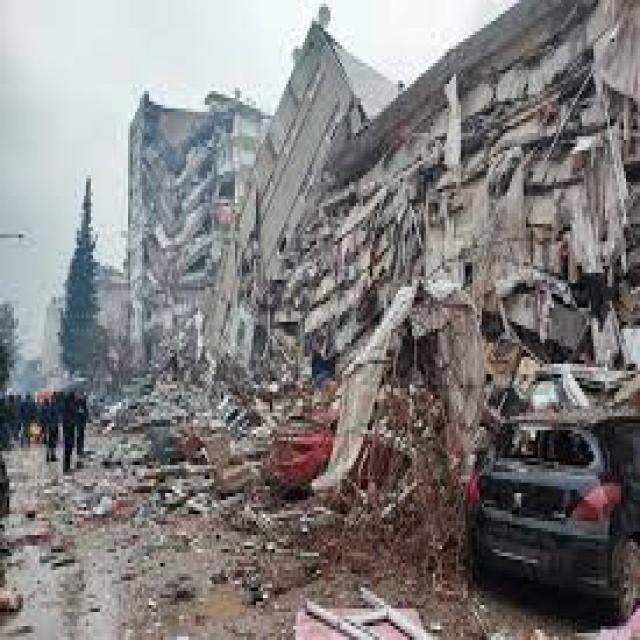Earthquake: (81, 32, 640, 579)
